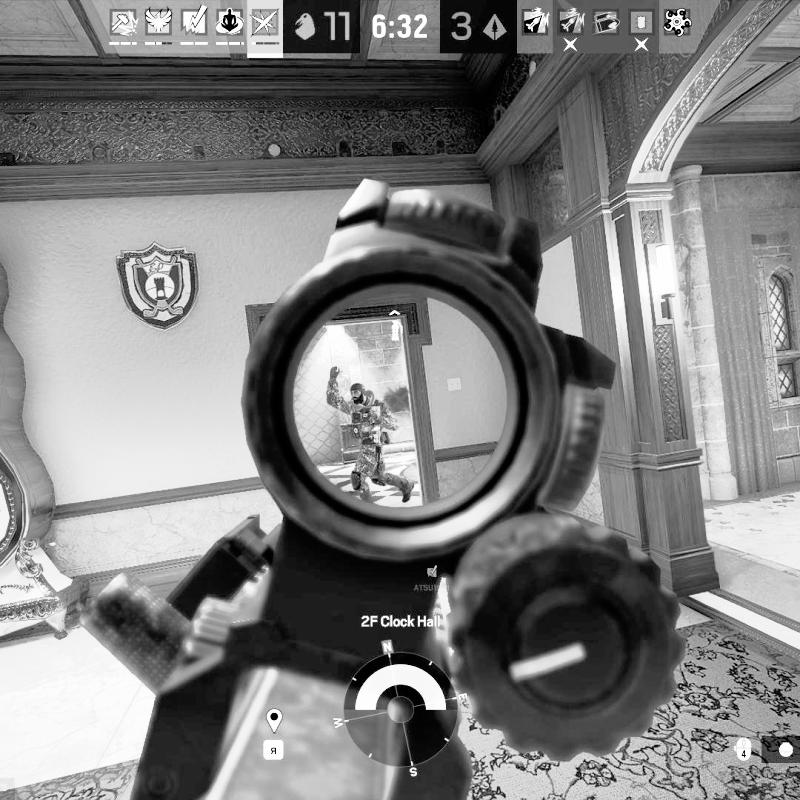Character: (327, 365, 417, 508)
Friend_label: (410, 564, 453, 592)
Head: (348, 381, 366, 407)
